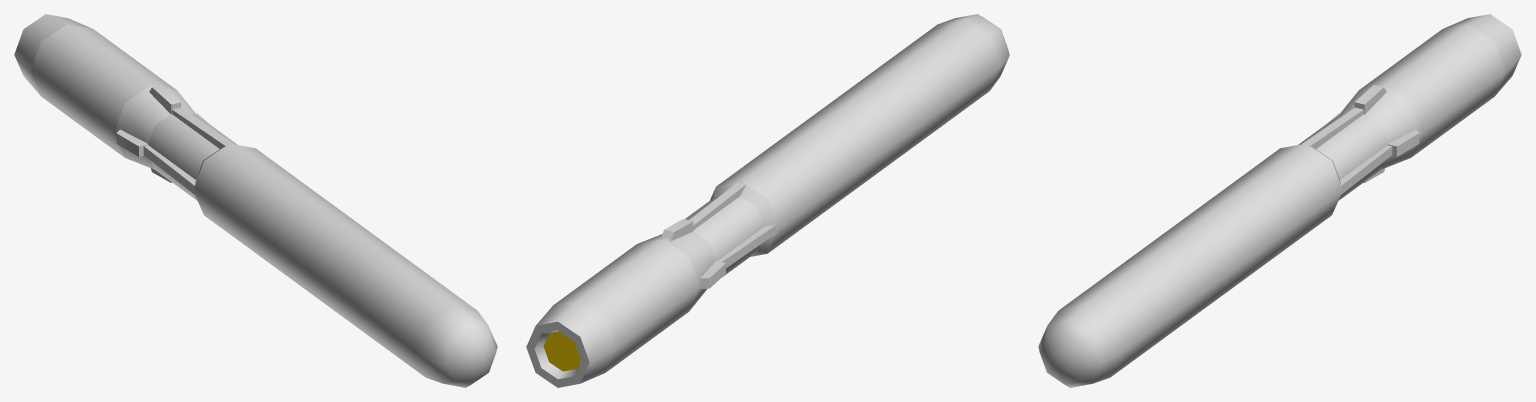
File: VGM-2 LOD1.fbx
The picture shows the model from 3 angles, left to right: view 1: azimuth 30°, elevation 25°; view 2: azimuth 150°, elevation 25°; view 3: azimuth 330°, elevation 25°; orthographic projection.
Parts seen in each view (by area): view 1: VGM-2.001; view 2: VGM-2.001; view 3: VGM-2.001.
Part boxes in pixels (x1,y1,x2,y2): VGM-2.001: (14,14,497,387); VGM-2.001: (526,14,1009,387); VGM-2.001: (1038,14,1521,387).
Size of the model in its own units: 6.57 by 60.39 by 6.57.
